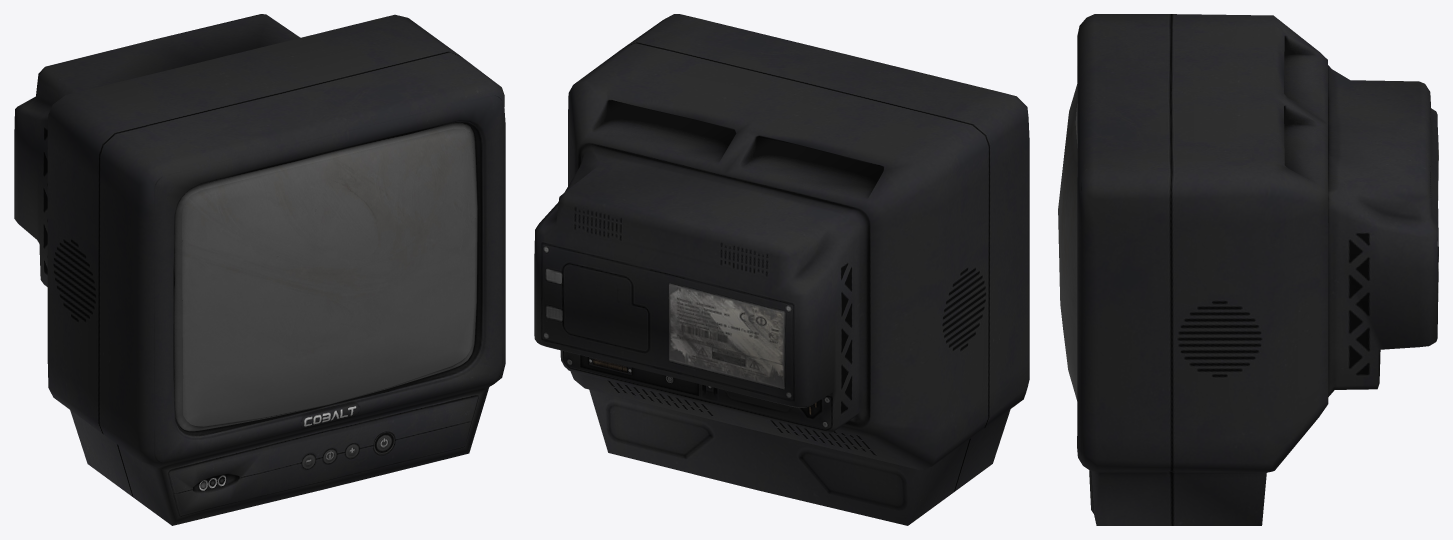
The picture shows the model from 3 angles, left to right: view 1: azimuth 30°, elevation 25°; view 2: azimuth 150°, elevation 25°; view 3: azimuth 270°, elevation 25°; orthographic projection. The views are drawn at different scales.
Visible parts, largest first — view 1: TVBody, TVScreenBg; view 2: TVBody; view 3: TVBody, TVScreenBg.
Boxes of the visible parts, x1=… form: TVBody: x1=14, y1=14, x2=505, y2=525; TVScreenBg: x1=182, y1=128, x2=475, y2=426; TVBody: x1=534, y1=14, x2=1029, y2=525; TVBody: x1=1075, y1=14, x2=1438, y2=525; TVScreenBg: x1=1058, y1=83, x2=1077, y2=400.
Bounding box in the file's own units: 1.69 × 1.63 × 1.55.
1 material, 1 textured.
